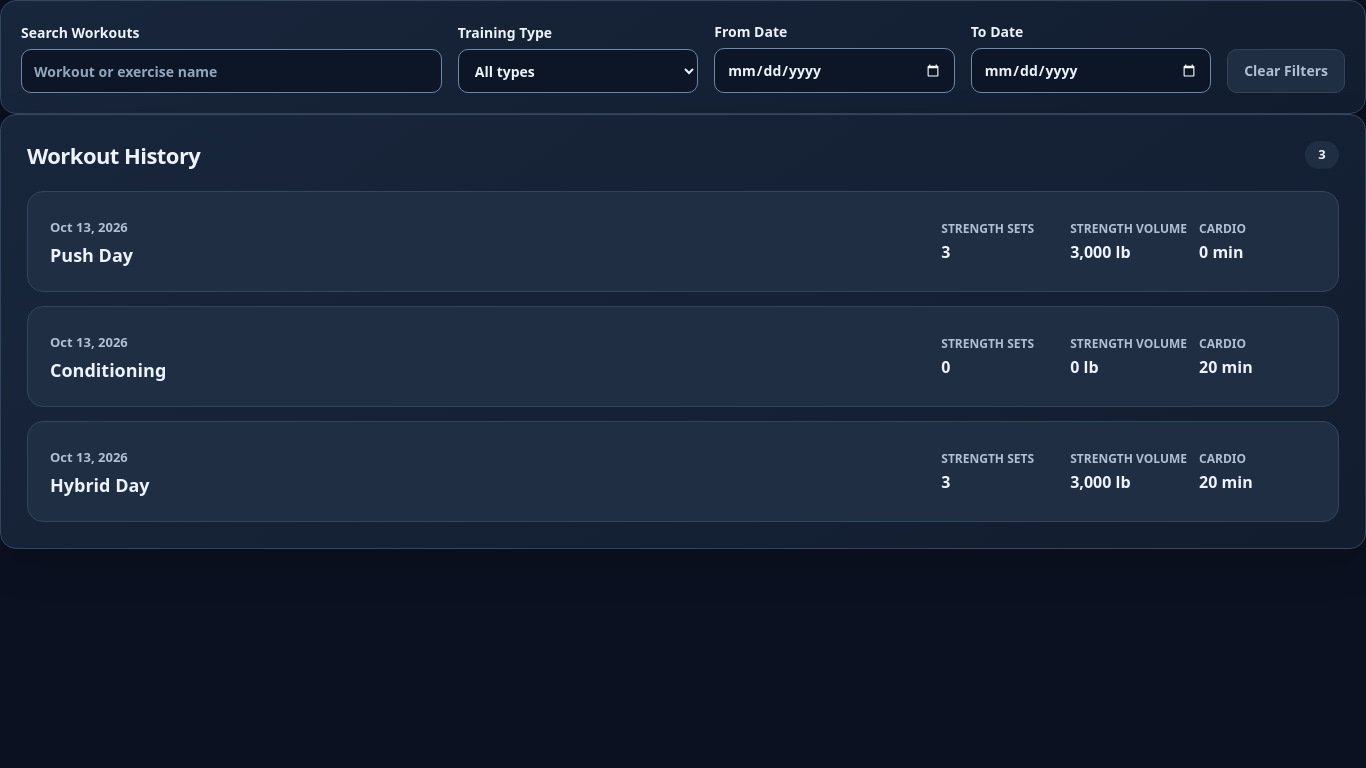
workout history filters › searches titles and exercises and filters mixed workouts
This screenshot has width=1366, height=768.
Type "bike" into the search field labelled "Search Workouts". click: (231, 71)
box: left=21, top=49, right=442, bottom=93
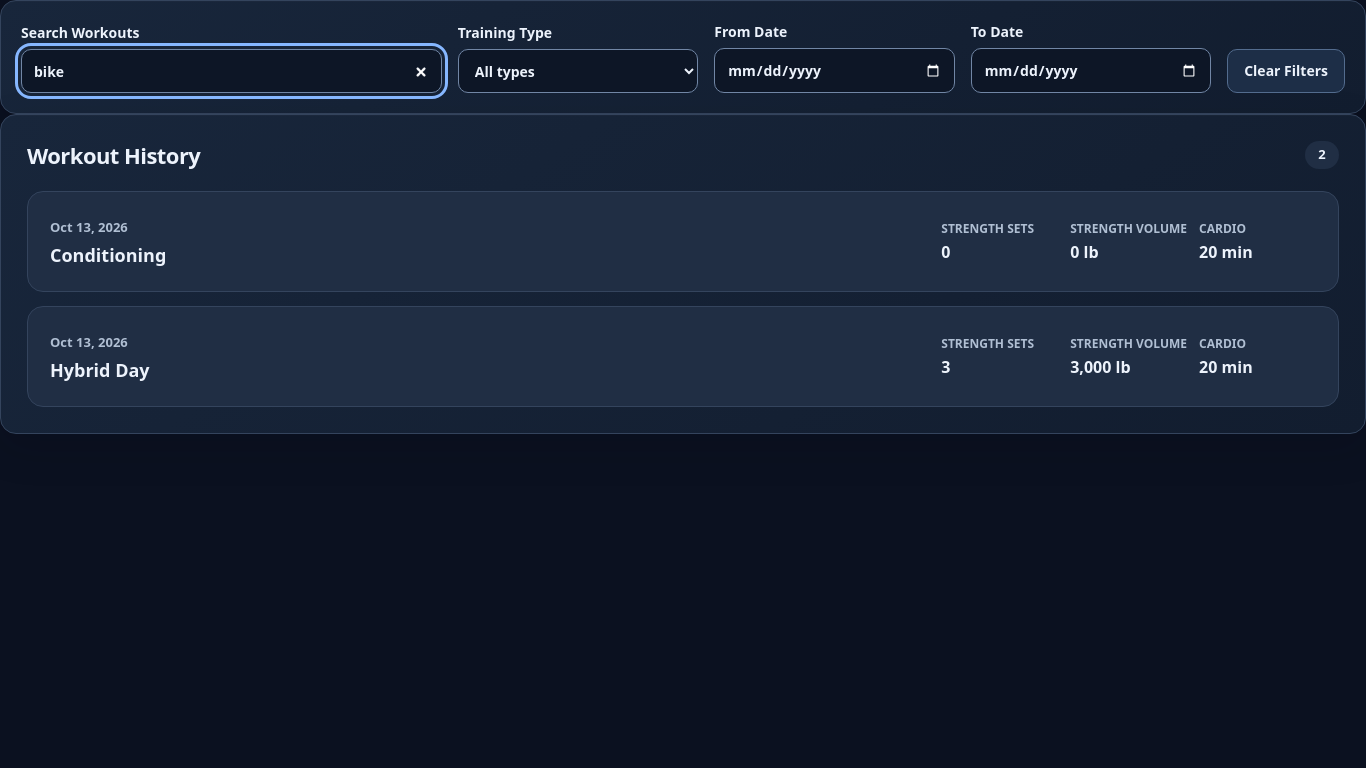
Expected: the heading "Conditioning" is shown, left=50, top=243, right=166, bottom=267
Expected: the link "Push Day" is gone
Clear the search field labelled "Search Workouts". click: (231, 71)
box: left=21, top=49, right=442, bottom=93
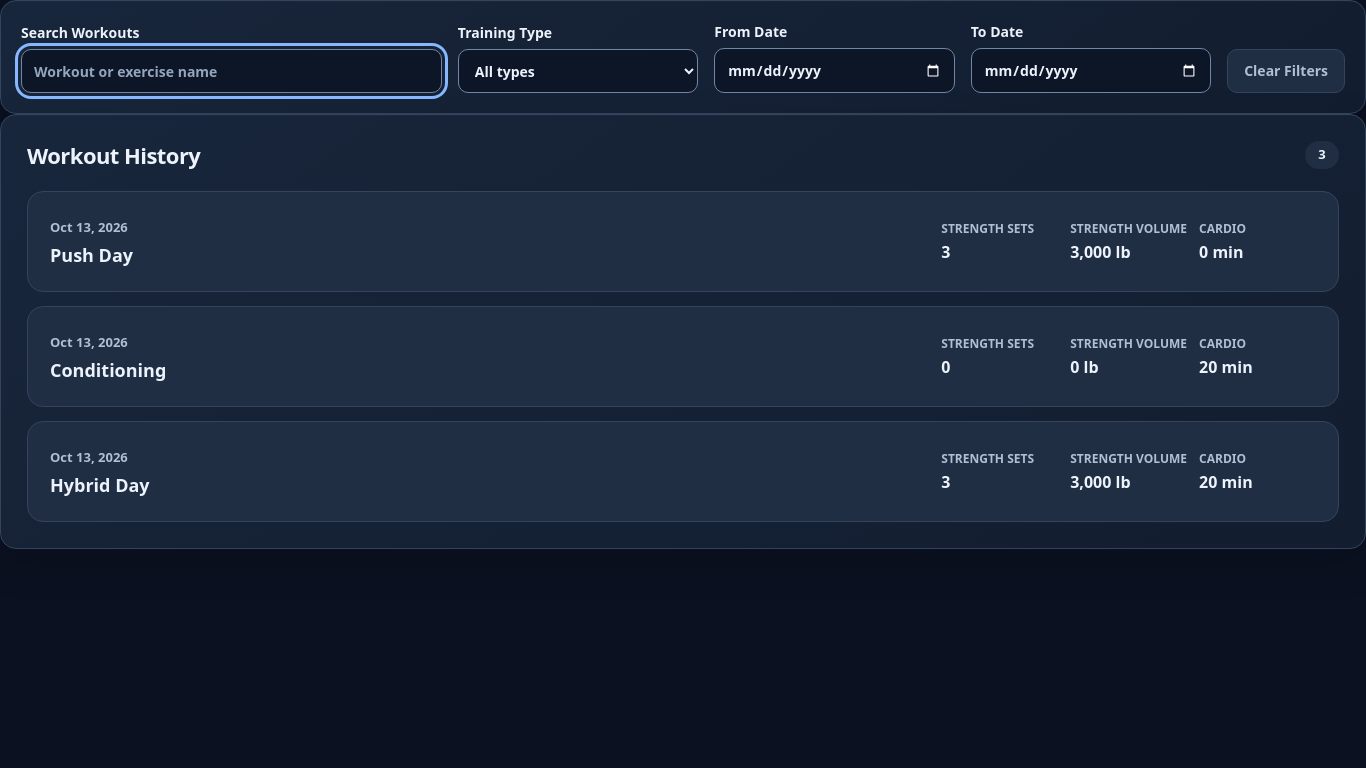
Select "Mixed" in the dropdown labelled "Training Type". click: (578, 71)
box: left=458, top=49, right=698, bottom=93
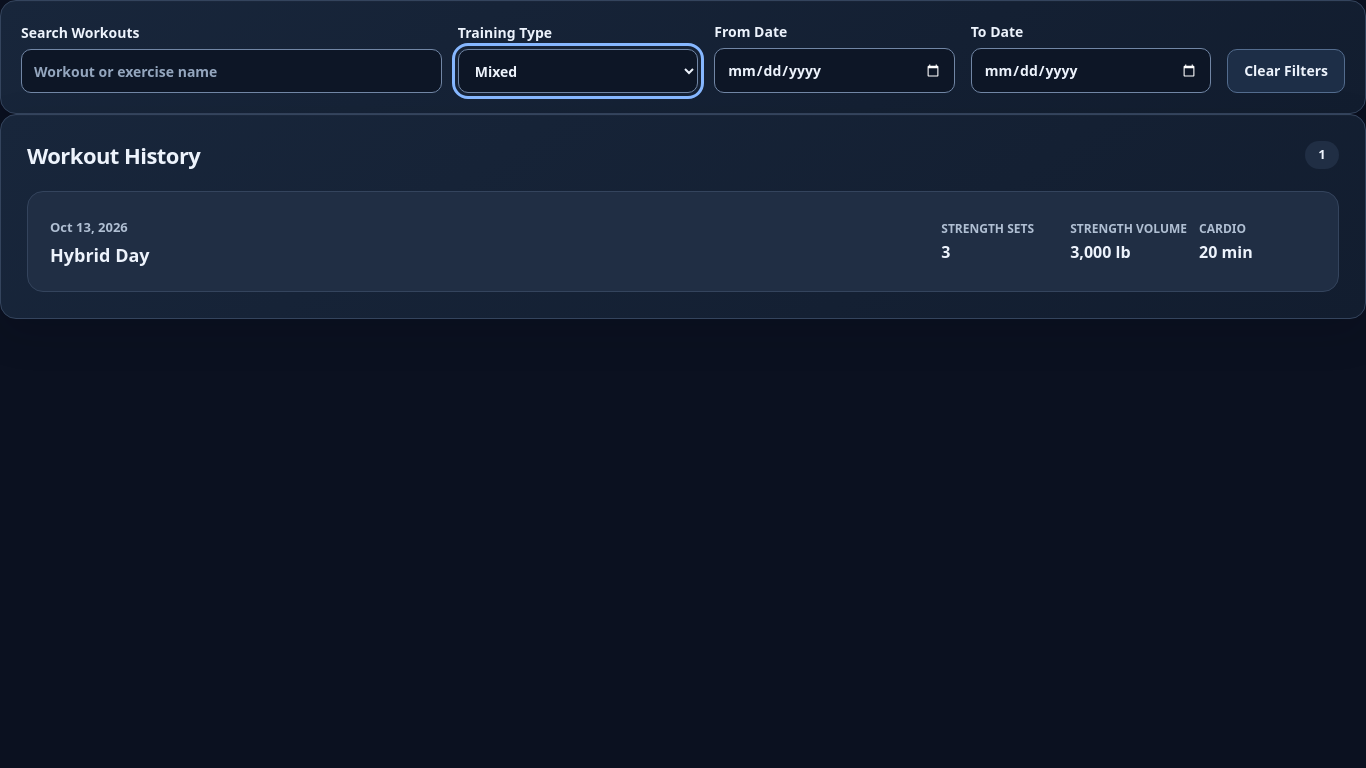
Expected: the heading "Hybrid Day" is shown, left=50, top=243, right=150, bottom=267
Expected: the link "Conditioning" is gone
